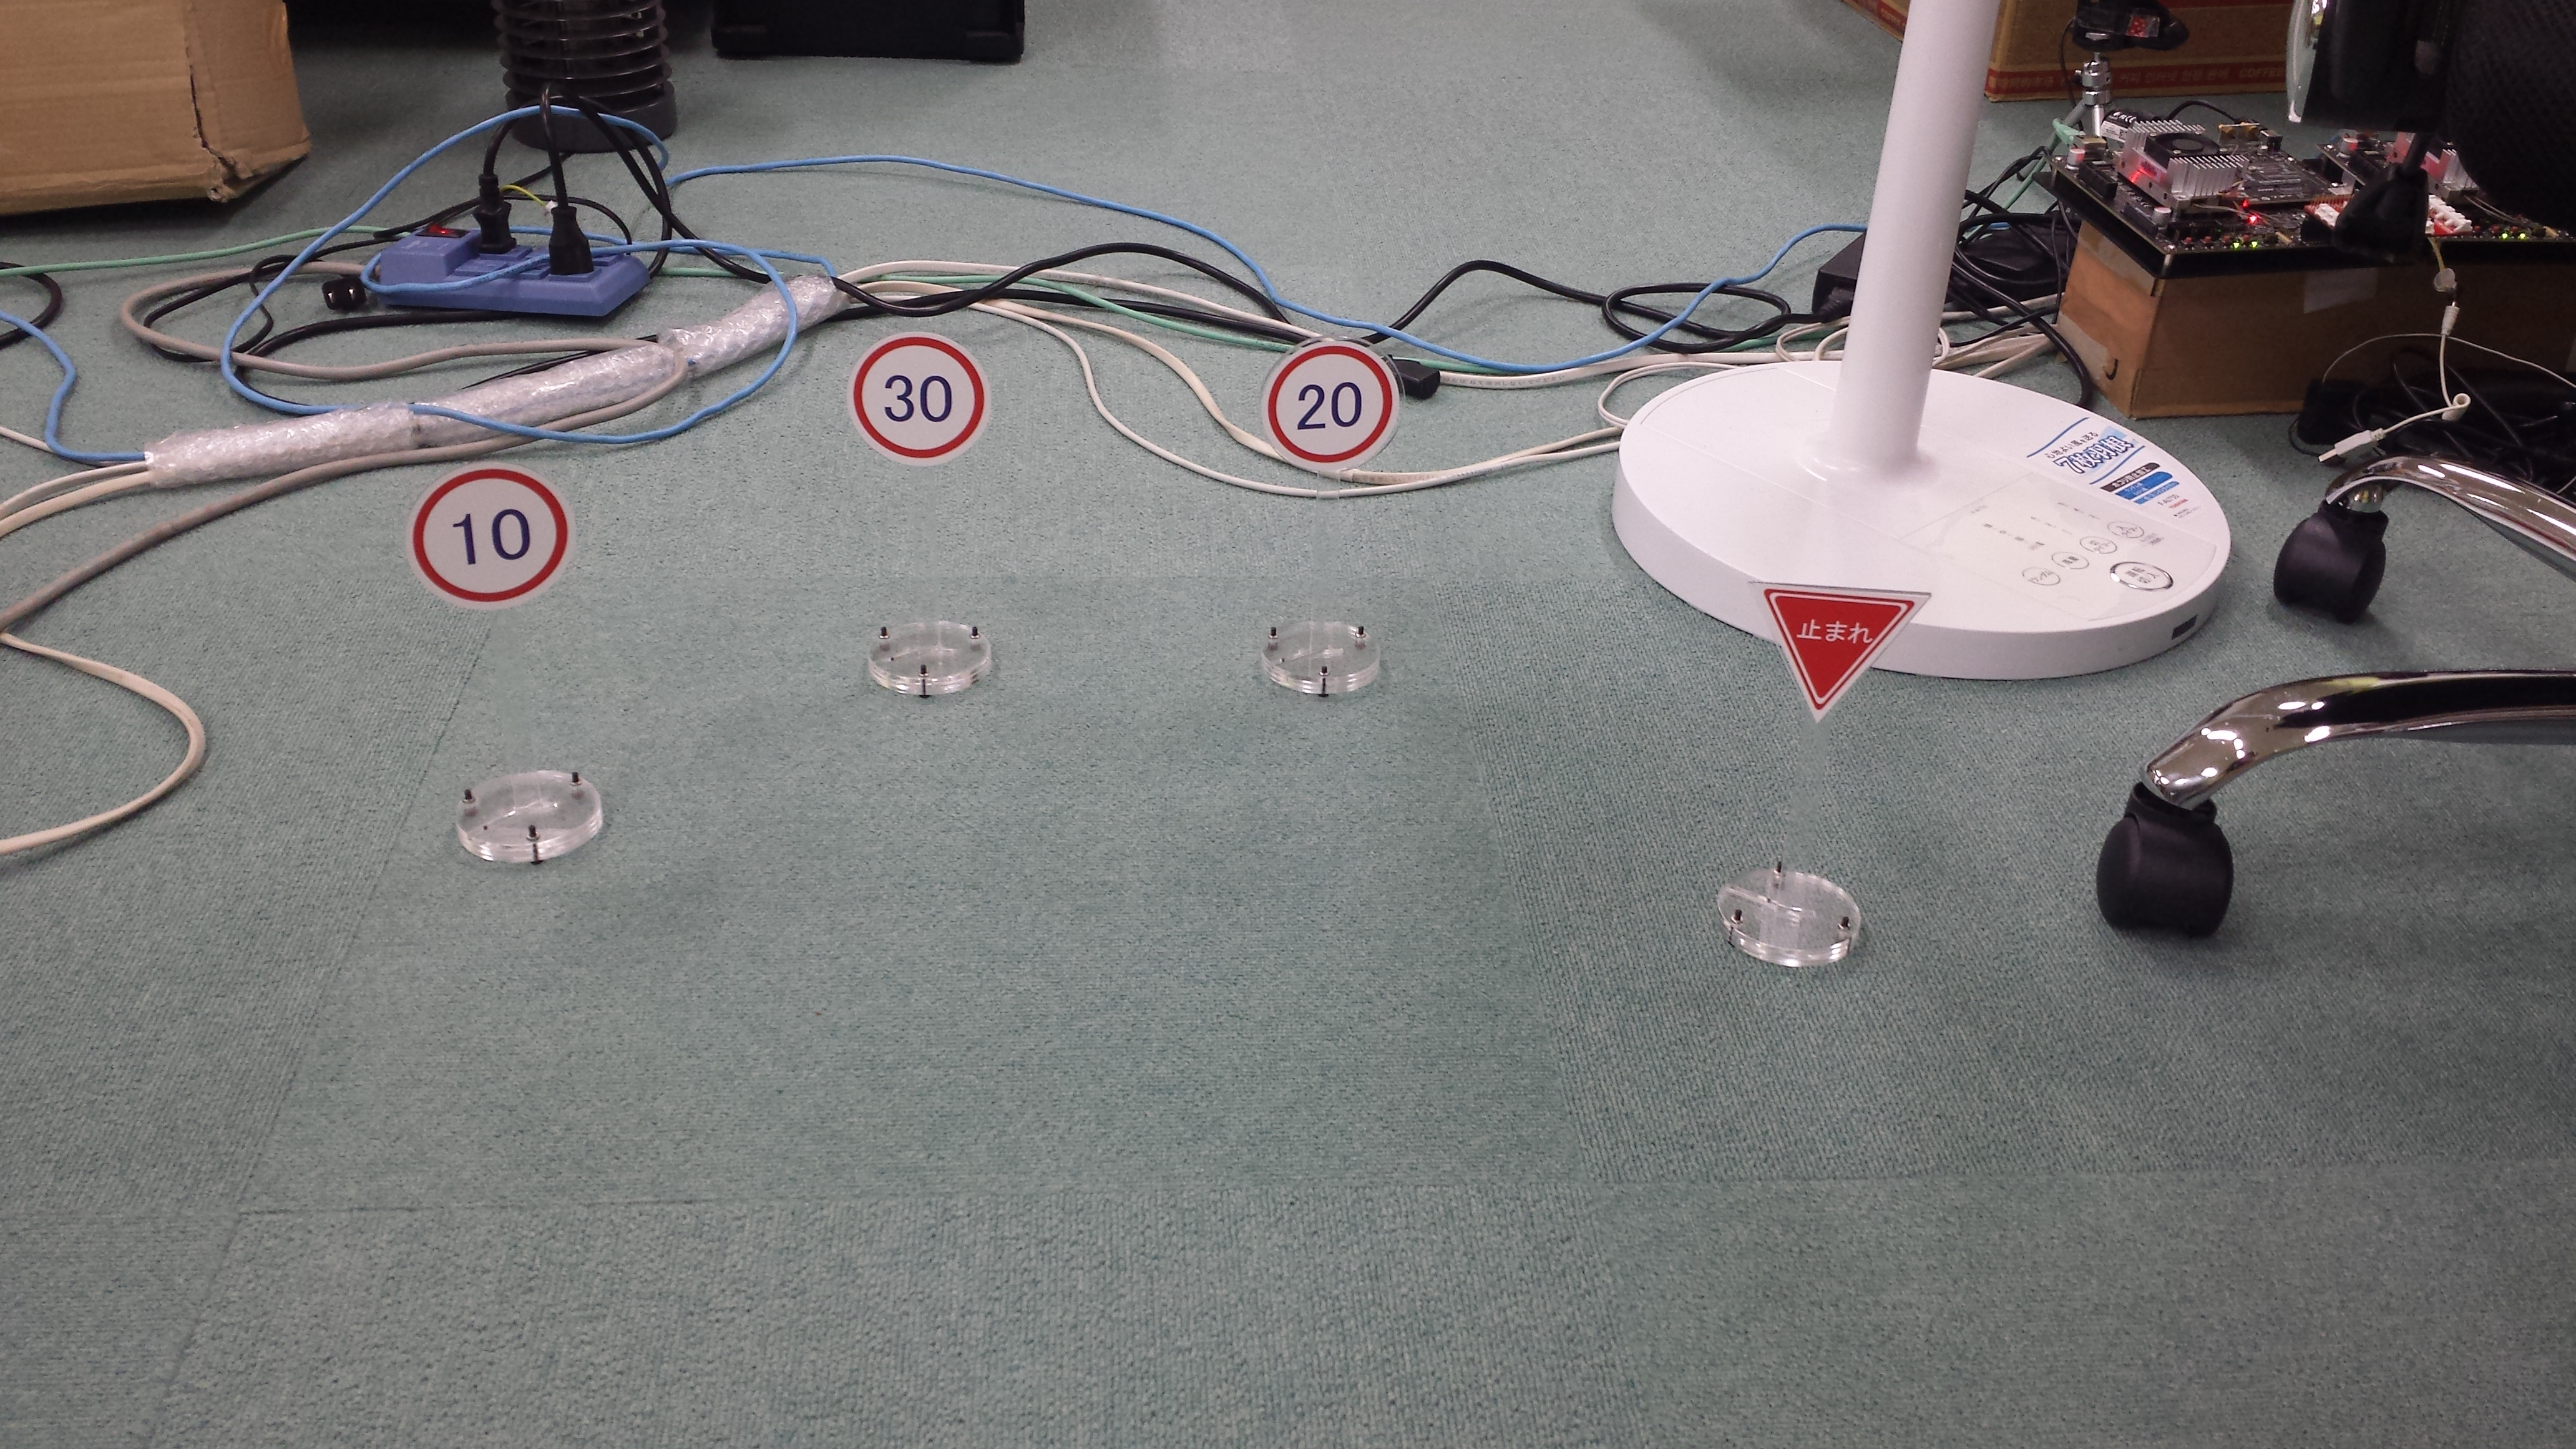speed_10: (405, 462, 579, 607)
speed_20: (1261, 340, 1399, 472)
speed_30: (847, 331, 993, 469)
stop: (1753, 582, 1930, 725)
